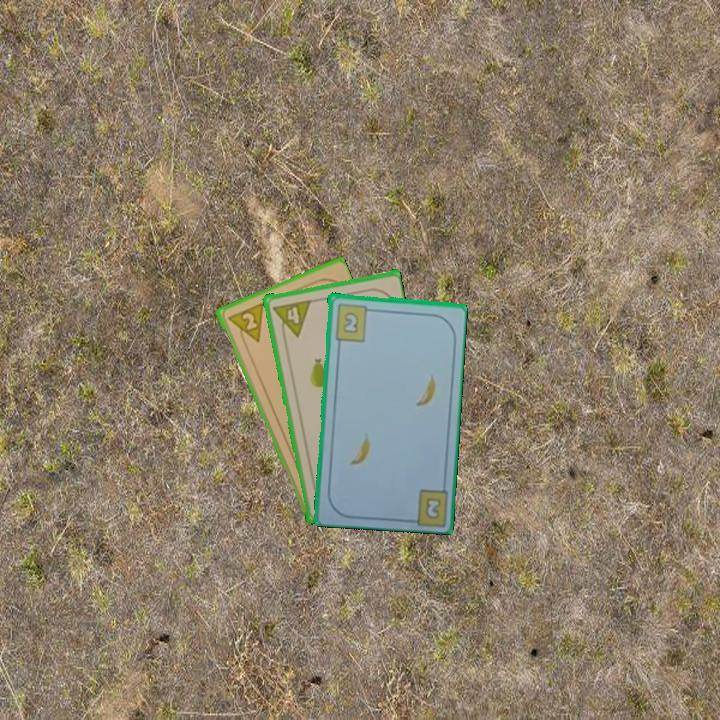2b: (331, 300, 376, 344), (422, 494, 443, 522)
2p: (223, 299, 266, 349)
4p: (268, 296, 313, 341)
